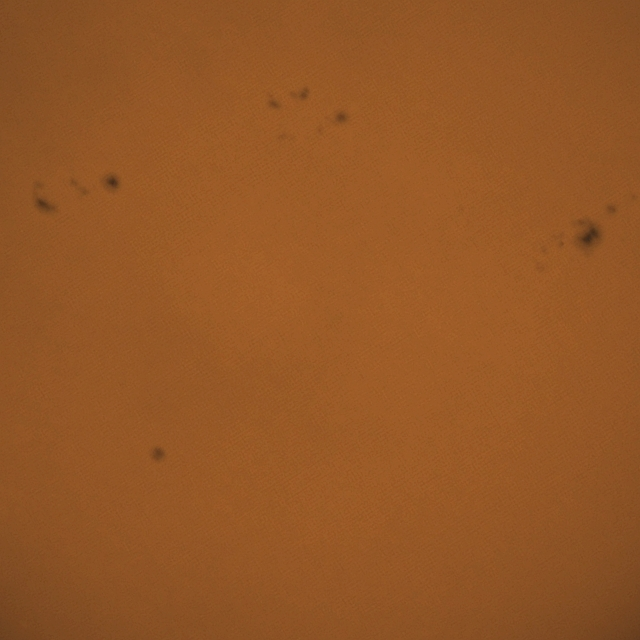sunspot: (18, 158, 147, 226), (151, 444, 166, 464), (297, 86, 311, 101)
